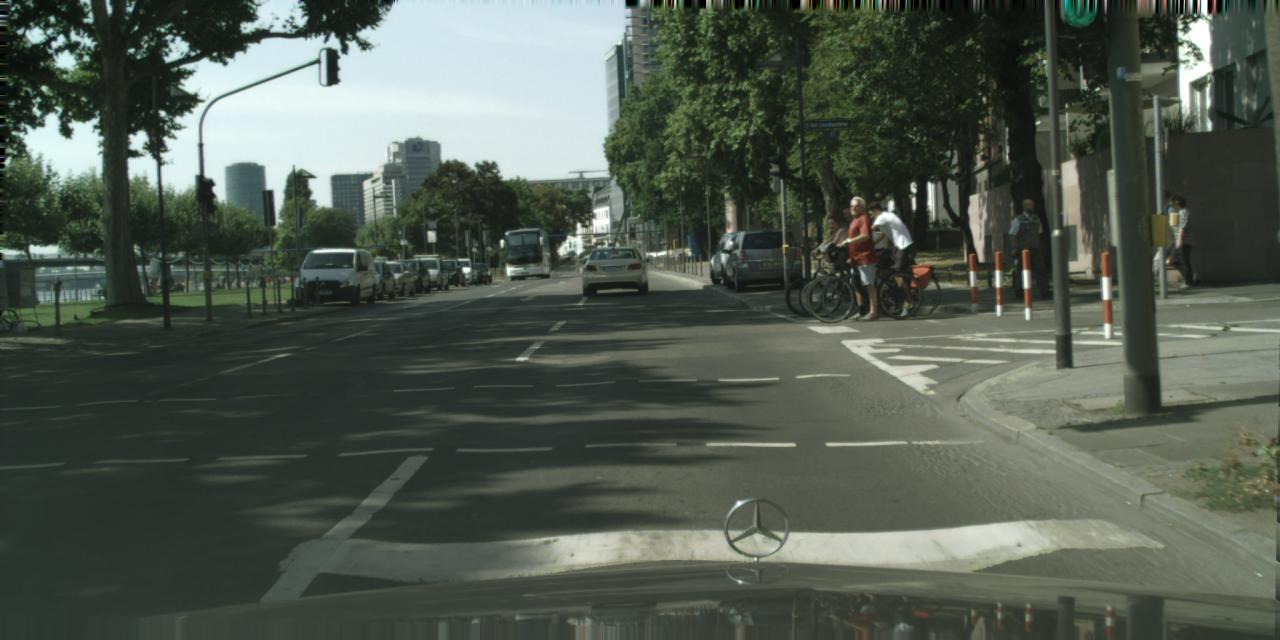ped: (836, 194, 888, 320), (866, 200, 912, 314), (1008, 198, 1049, 298), (1148, 189, 1186, 285), (1160, 195, 1198, 289), (834, 204, 869, 289), (824, 216, 854, 290), (50, 275, 61, 303), (149, 276, 156, 294), (267, 275, 270, 284)
